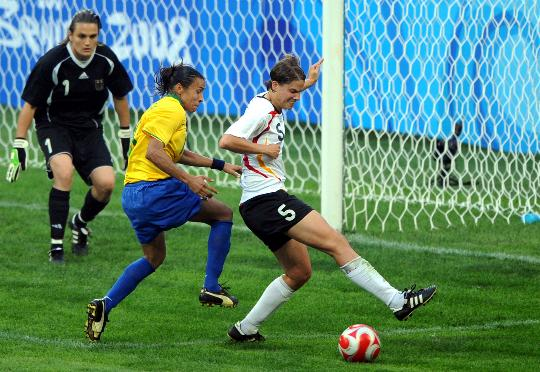football: (337, 323, 382, 366)
